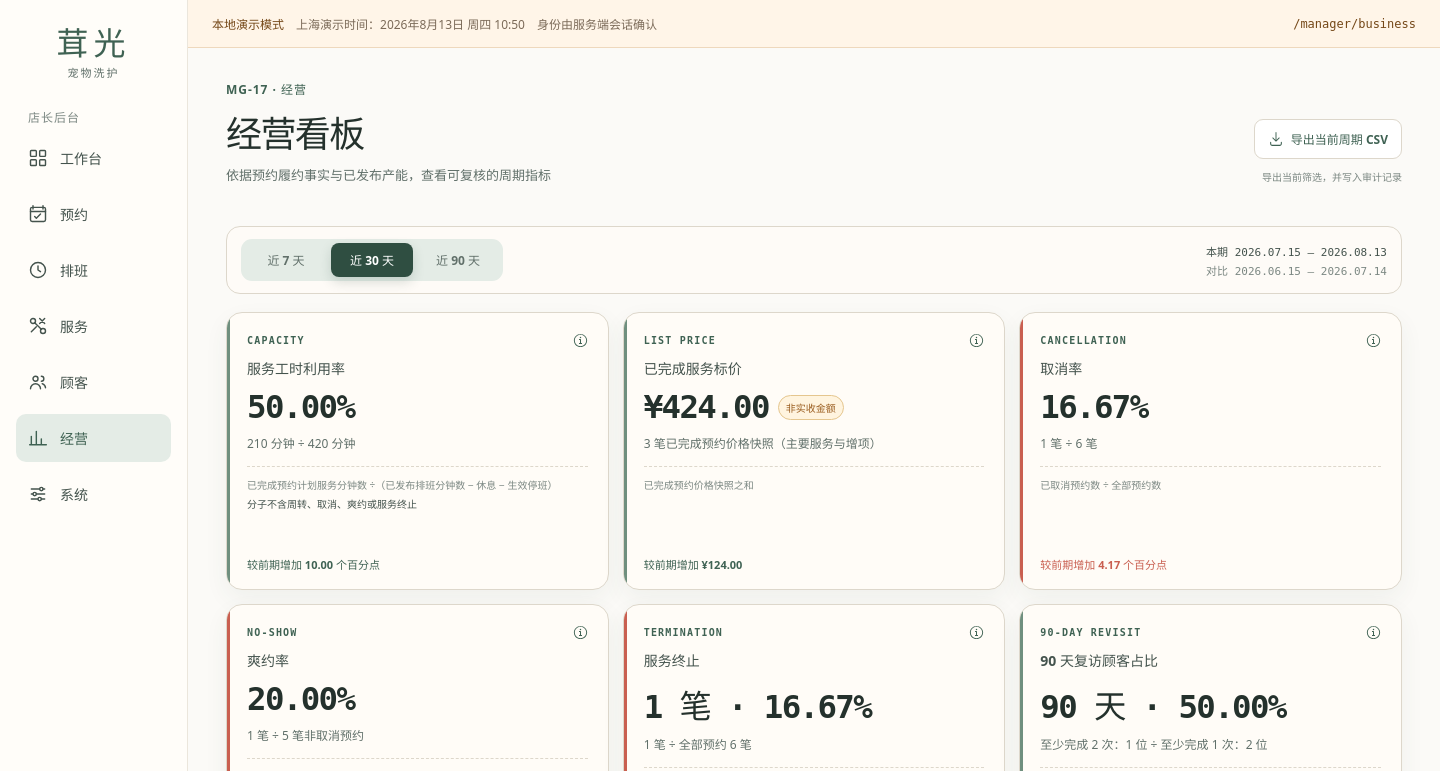
Test: MG-17 经营看板页面 › 切换周期失败时明确保留旧周期事实，不冒充为新周期
The image size is (1440, 771).
Expected: the text "¥424.00" is shown, x1=644 y1=388 x2=769 y2=426
Click the button "近 7 天".
click(286, 260)  # box x1=245 y1=243 x2=327 y2=277
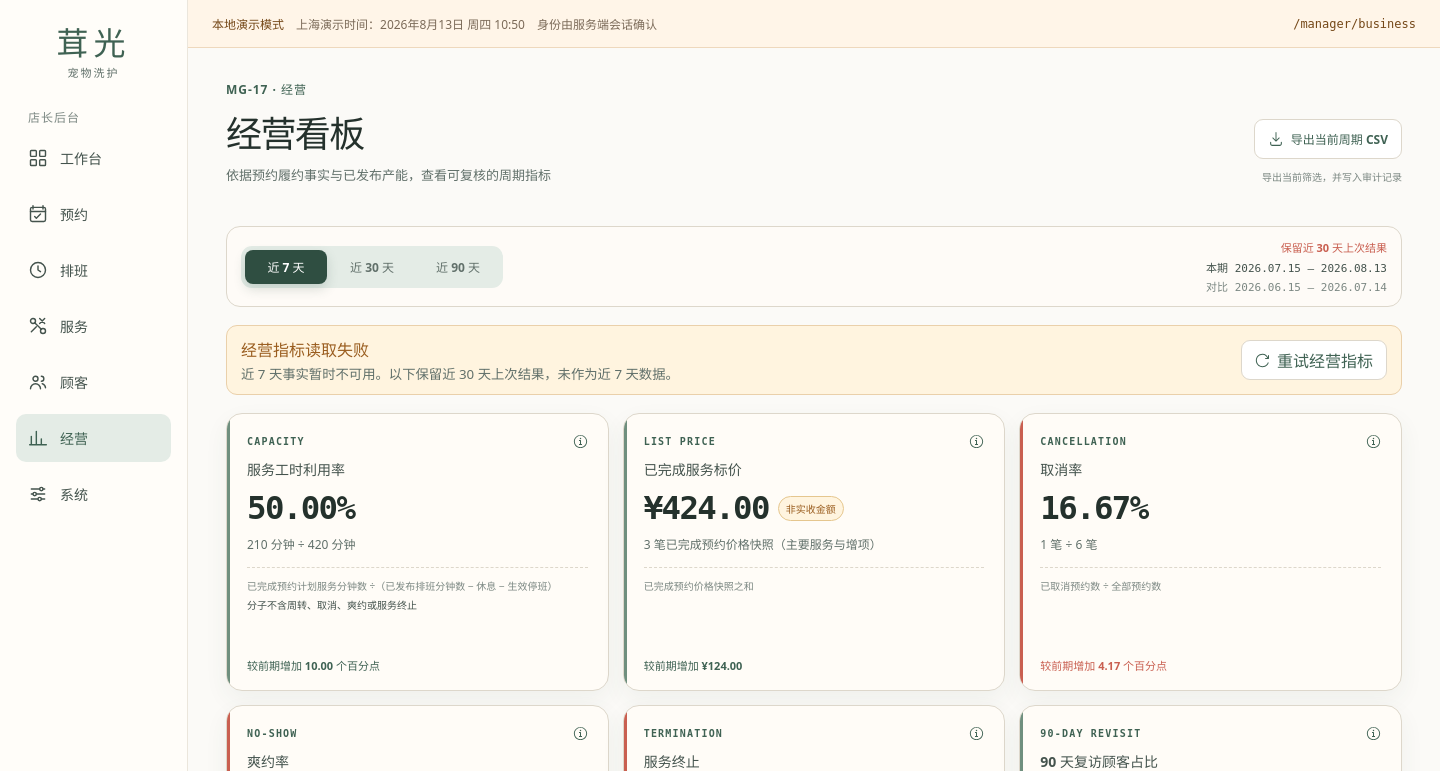
Expected: the text "¥424.00" is shown, x1=644 y1=489 x2=769 y2=527
Expected: the text "近 7 天事实暂时不可用。以下保留近 30 天上次结果，未作为近 7 天数据。" is shown 2 times
Expected: the text "保留近 30 天上次结果" is shown, x1=1281 y1=240 x2=1387 y2=255
